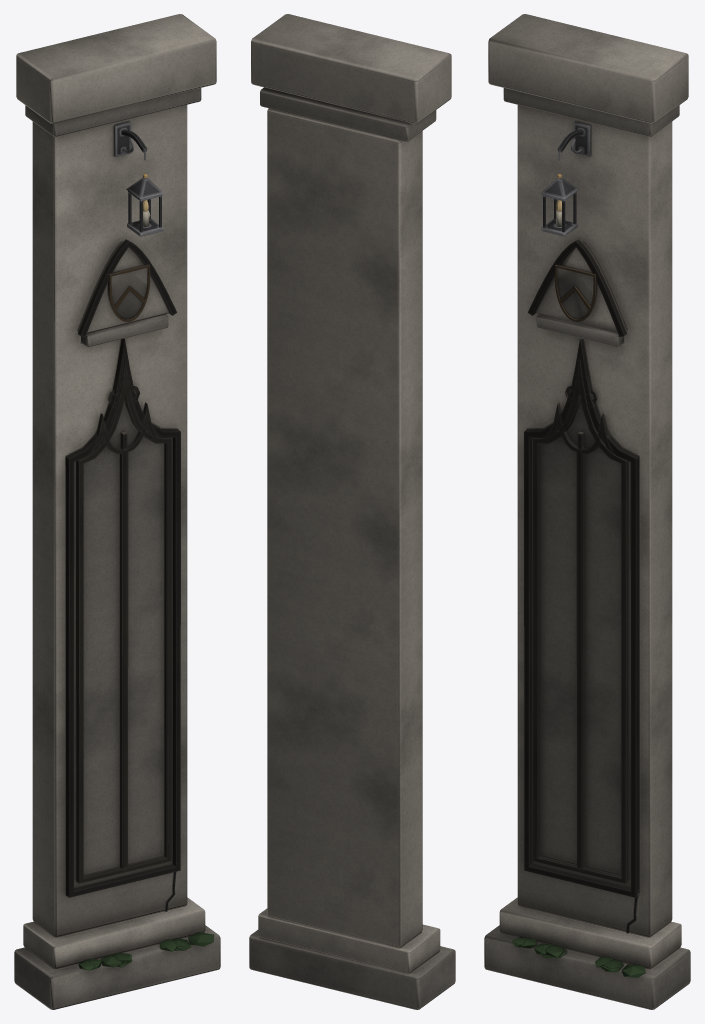
Rendered from Pilaster.fbx.
The picture shows the model from 3 angles, left to right: view 1: azimuth 30°, elevation 25°; view 2: azimuth 150°, elevation 25°; view 3: azimuth 330°, elevation 25°; orthographic projection.
Visible parts, largest first — view 1: Pilaster_Main; view 2: Pilaster_Main; view 3: Pilaster_Main.
Boxes of the visible parts, box(x1,y1,x2,y2) form: Pilaster_Main: box(14, 14, 220, 1009); Pilaster_Main: box(249, 14, 455, 1009); Pilaster_Main: box(484, 14, 690, 1009).
Bounding box in the file's own units: 230 × 1200 × 126.
